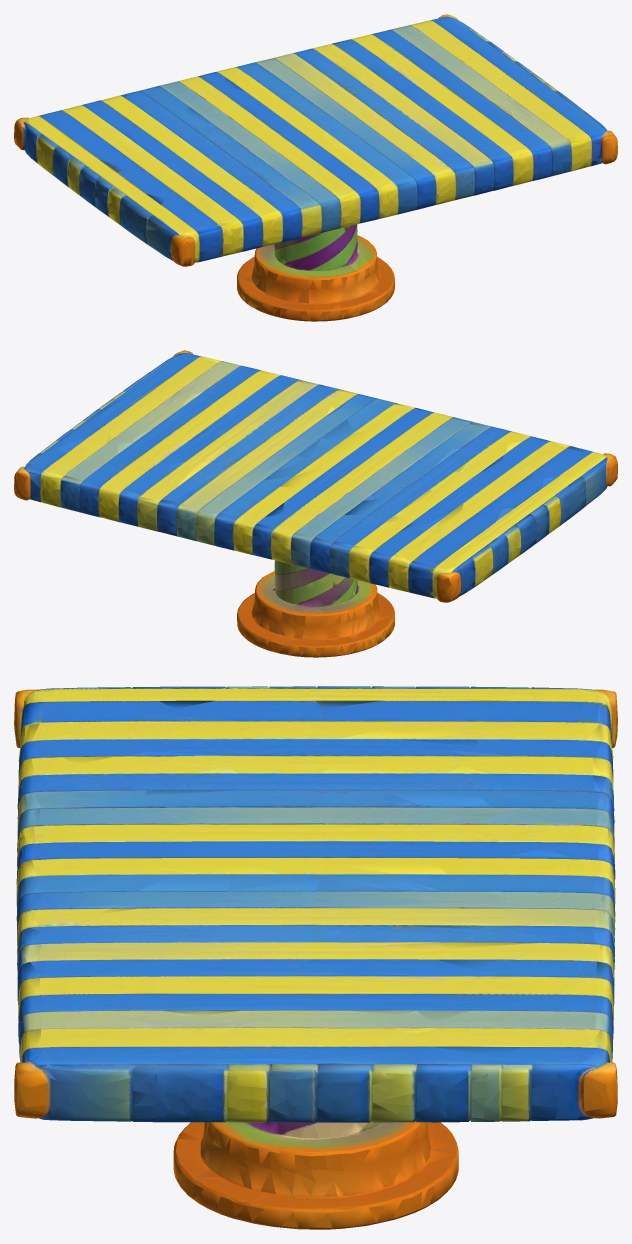
Rendered from platform_sirk.glb.
The picture shows the model from 3 angles, top to bottom: view 1: azimuth 30°, elevation 25°; view 2: azimuth 150°, elevation 25°; view 3: azimuth 270°, elevation 25°; orthographic projection. The views are drawn at different scales.
Visible parts, largest first — view 1: tripo_node_b7d4331a-5ce3-4ba4-b41e-08f9b065b6d9; view 2: tripo_node_b7d4331a-5ce3-4ba4-b41e-08f9b065b6d9; view 3: tripo_node_b7d4331a-5ce3-4ba4-b41e-08f9b065b6d9.
Part boxes in pixels (x1,y1,x2,y2): tripo_node_b7d4331a-5ce3-4ba4-b41e-08f9b065b6d9: (14,14,617,321); tripo_node_b7d4331a-5ce3-4ba4-b41e-08f9b065b6d9: (14,350,617,657); tripo_node_b7d4331a-5ce3-4ba4-b41e-08f9b065b6d9: (14,686,617,1229).
Bounding box in the file's own units: 0.9801 × 0.3491 × 0.6435.
Materials: 1 (1 with a texture image).
